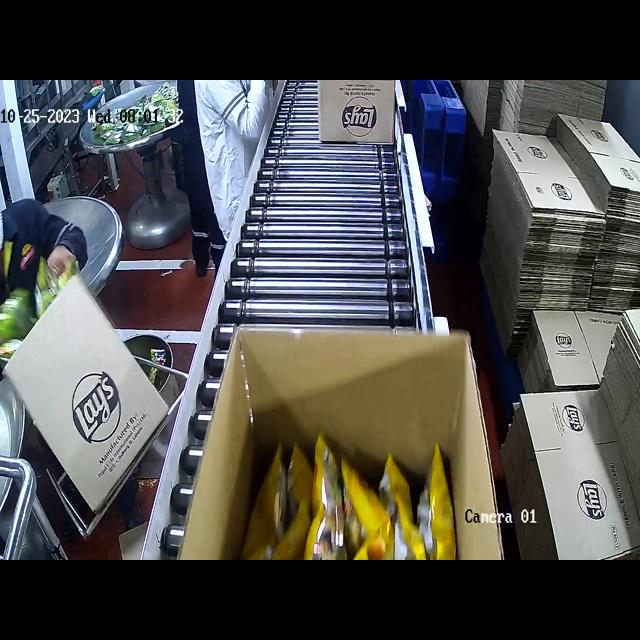salted: (243, 434, 439, 560)
